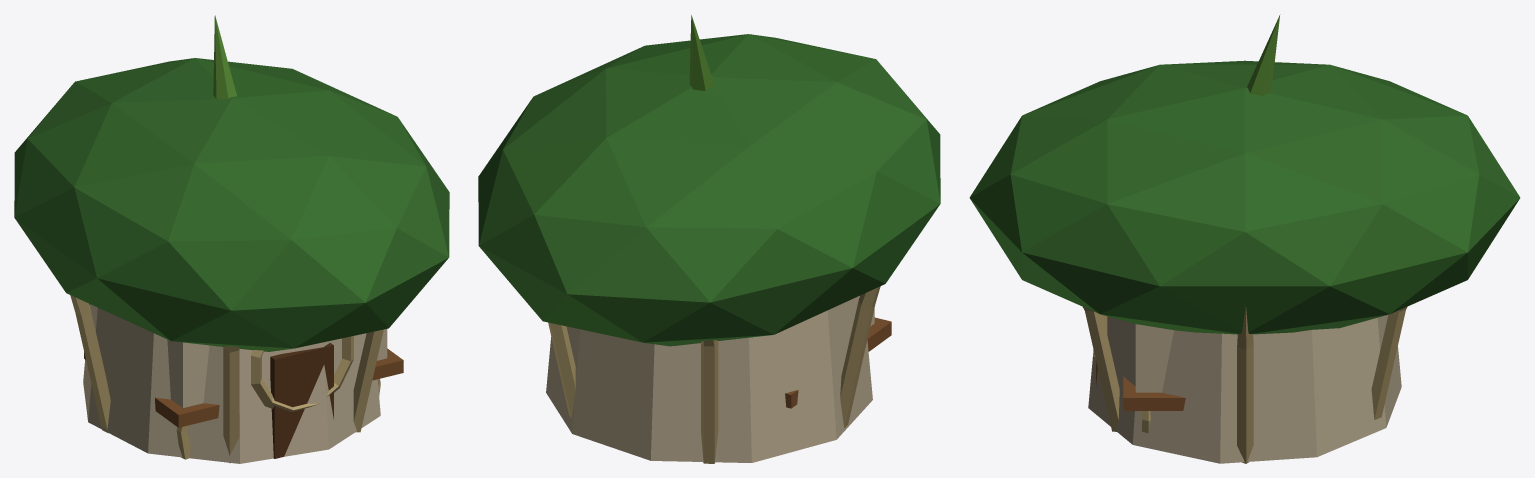
Rendered from elf_hall_broken.glb.
The picture shows the model from 3 angles, left to right: view 1: azimuth 30°, elevation 25°; view 2: azimuth 150°, elevation 25°; view 3: azimuth 270°, elevation 25°; orthographic projection. The views are drawn at different scales.
Parts seen in each view (by area): view 1: elf_hall_piece4, elf_hall_piece8, elf_hall_piece7, elf_hall_piece2, elf_hall_piece9, elf_hall_piece6, elf_hall_piece3, elf_hall_piece5, elf_hall_piece10, elf_hall_piece0, elf_hall_piece1; view 2: elf_hall_piece3, elf_hall_piece2, elf_hall_piece8, elf_hall_piece13, elf_hall_piece1, elf_hall_piece0, elf_hall_piece4, elf_hall_piece5, elf_hall_piece7, elf_hall_piece11, elf_hall_piece9, elf_hall_piece6; view 3: elf_hall_piece6, elf_hall_piece3, elf_hall_piece1, elf_hall_piece7, elf_hall_piece2, elf_hall_piece5, elf_hall_piece10, elf_hall_piece4, elf_hall_piece9.
Part boxes in pixels (box(x1,y1,x2,y2)): elf_hall_piece4: box(63, 196, 388, 463); elf_hall_piece8: box(14, 131, 186, 442); elf_hall_piece7: box(237, 150, 427, 339); elf_hall_piece2: box(14, 15, 237, 184); elf_hall_piece9: box(170, 161, 389, 457); elf_hall_piece6: box(345, 110, 449, 409); elf_hall_piece3: box(82, 58, 383, 131); elf_hall_piece5: box(210, 73, 340, 170); elf_hall_piece10: box(324, 338, 380, 445); elf_hall_piece0: box(83, 305, 334, 451); elf_hall_piece1: box(291, 121, 357, 152); elf_hall_piece3: box(478, 50, 706, 320); elf_hall_piece2: box(636, 15, 838, 343); elf_hall_piece8: box(766, 88, 904, 424); elf_hall_piece13: box(611, 222, 798, 463); elf_hall_piece1: box(546, 38, 721, 447); elf_hall_piece0: box(761, 288, 849, 459); elf_hall_piece4: box(842, 52, 940, 413); elf_hall_piece5: box(654, 36, 820, 378); elf_hall_piece7: box(722, 34, 842, 69); elf_hall_piece11: box(537, 308, 638, 341); elf_hall_piece9: box(833, 58, 877, 106); elf_hall_piece6: box(518, 37, 723, 118); elf_hall_piece6: box(1008, 135, 1285, 463); elf_hall_piece3: box(1165, 95, 1520, 315); elf_hall_piece1: box(1117, 113, 1407, 463); elf_hall_piece7: box(983, 83, 1131, 320); elf_hall_piece2: box(1114, 14, 1469, 118); elf_hall_piece5: box(1117, 71, 1291, 132); elf_hall_piece10: box(1089, 318, 1136, 445); elf_hall_piece4: box(969, 72, 1133, 253); elf_hall_piece9: box(1001, 64, 1169, 382).
Size of the model in its own units: 2.41 by 2.45 by 3.17.
